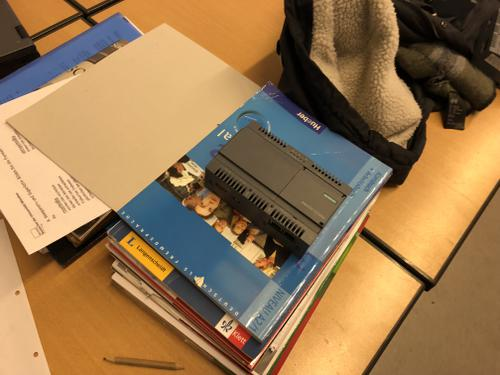device: (205, 121, 353, 260)
